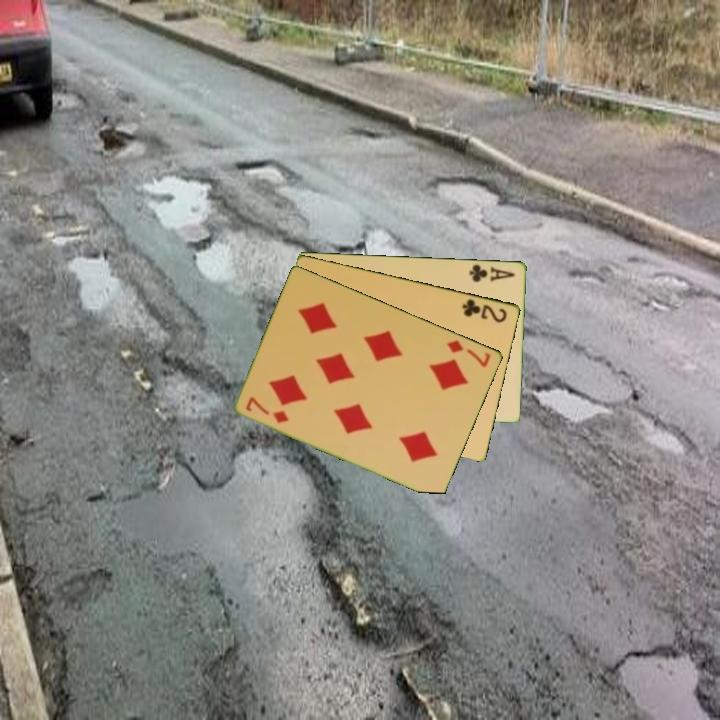2c: (459, 295, 510, 325)
7d: (443, 336, 494, 370), (242, 393, 292, 426)
Ac: (466, 261, 518, 284)
